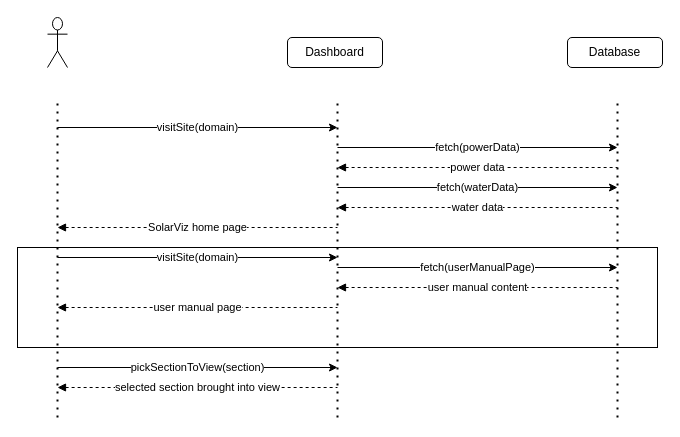
Image size: 680x437. Some labels were removed from this diagram. Here are the shapes that lost their labels. From the top down, the box of each, then its label:
(46, 16, 68, 68): Administrator
(16, 246, 658, 348): [domain of user manual]
